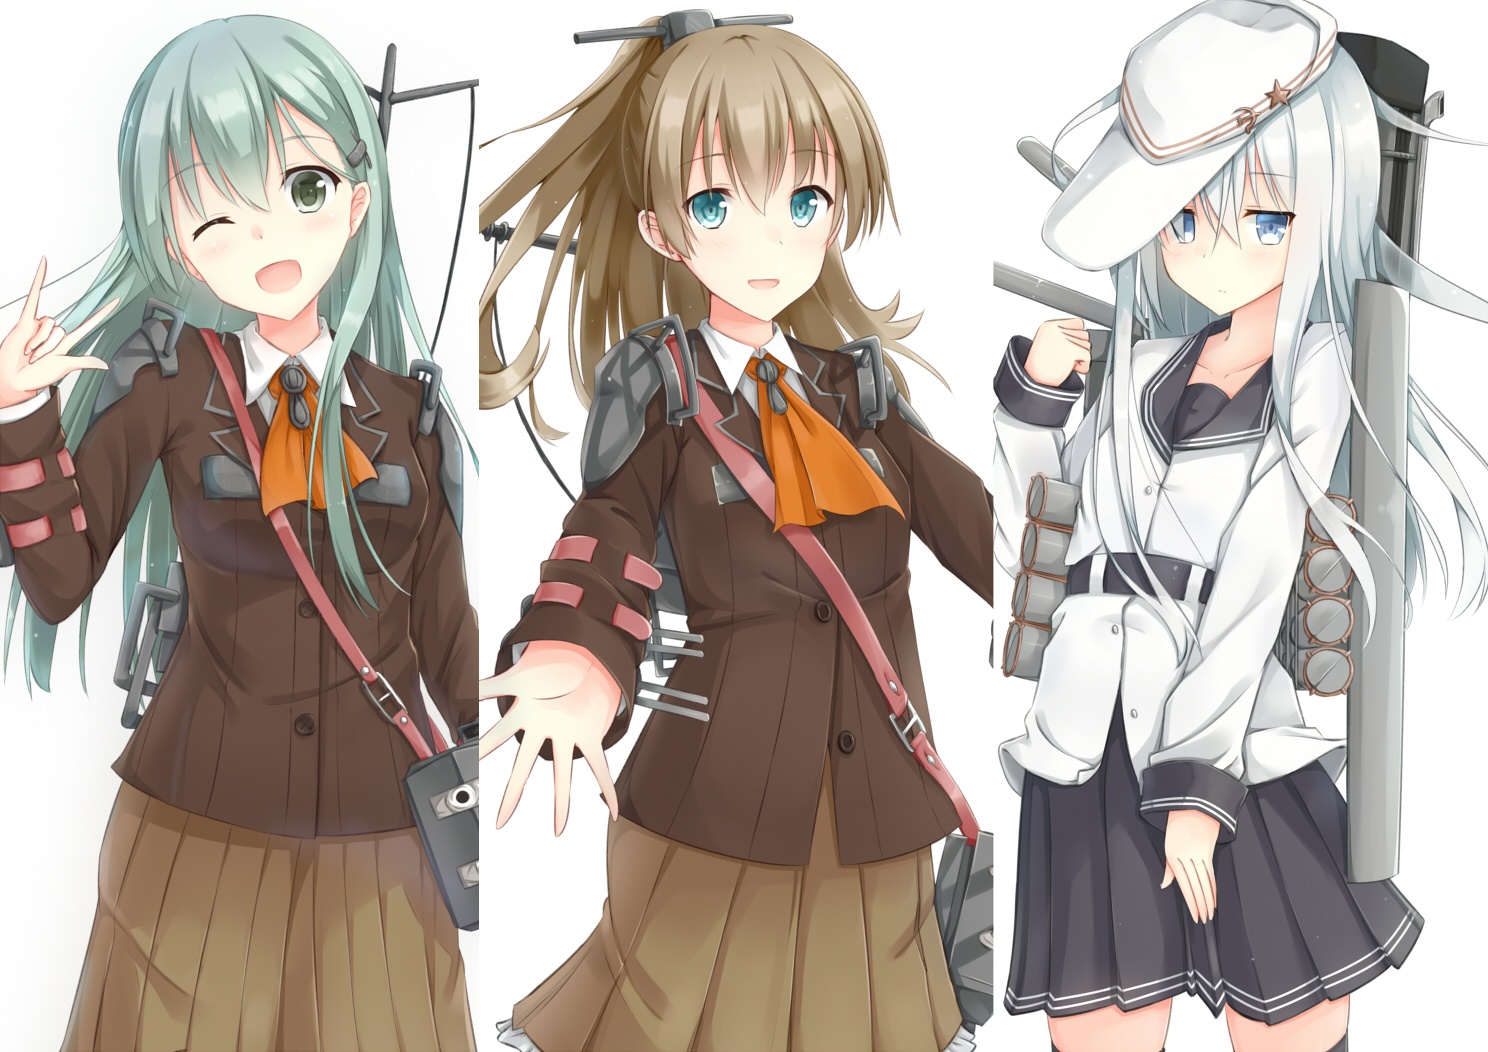纸片人正脸: (584, 9, 893, 328), (105, 10, 403, 328), (1123, 22, 1388, 325)
